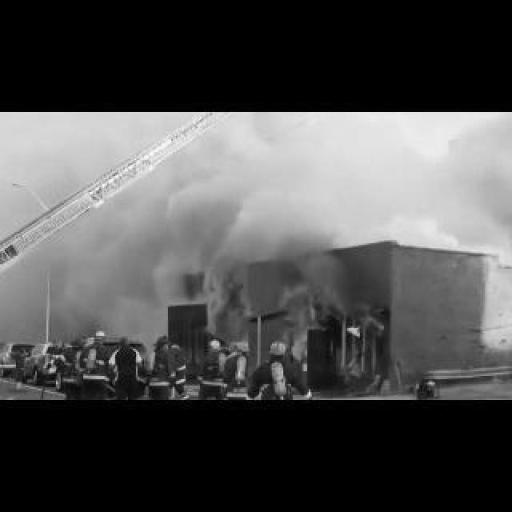smoke: (51, 182, 280, 341), (291, 290, 384, 368), (288, 235, 354, 312)
